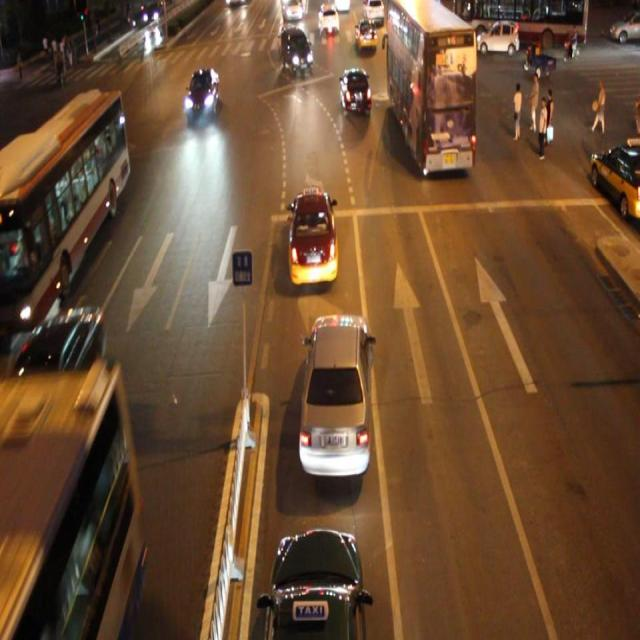car: (298, 312, 373, 478), (260, 526, 367, 640), (287, 188, 339, 284), (26, 129, 61, 191), (183, 68, 220, 116), (280, 28, 314, 75), (340, 68, 370, 115), (354, 18, 377, 53)
van: (1, 372, 145, 640), (0, 92, 130, 334), (388, 1, 476, 172)
